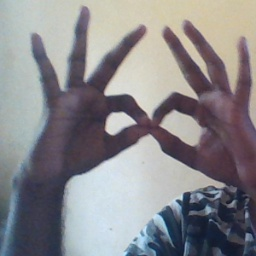B: (96, 74, 215, 171)
